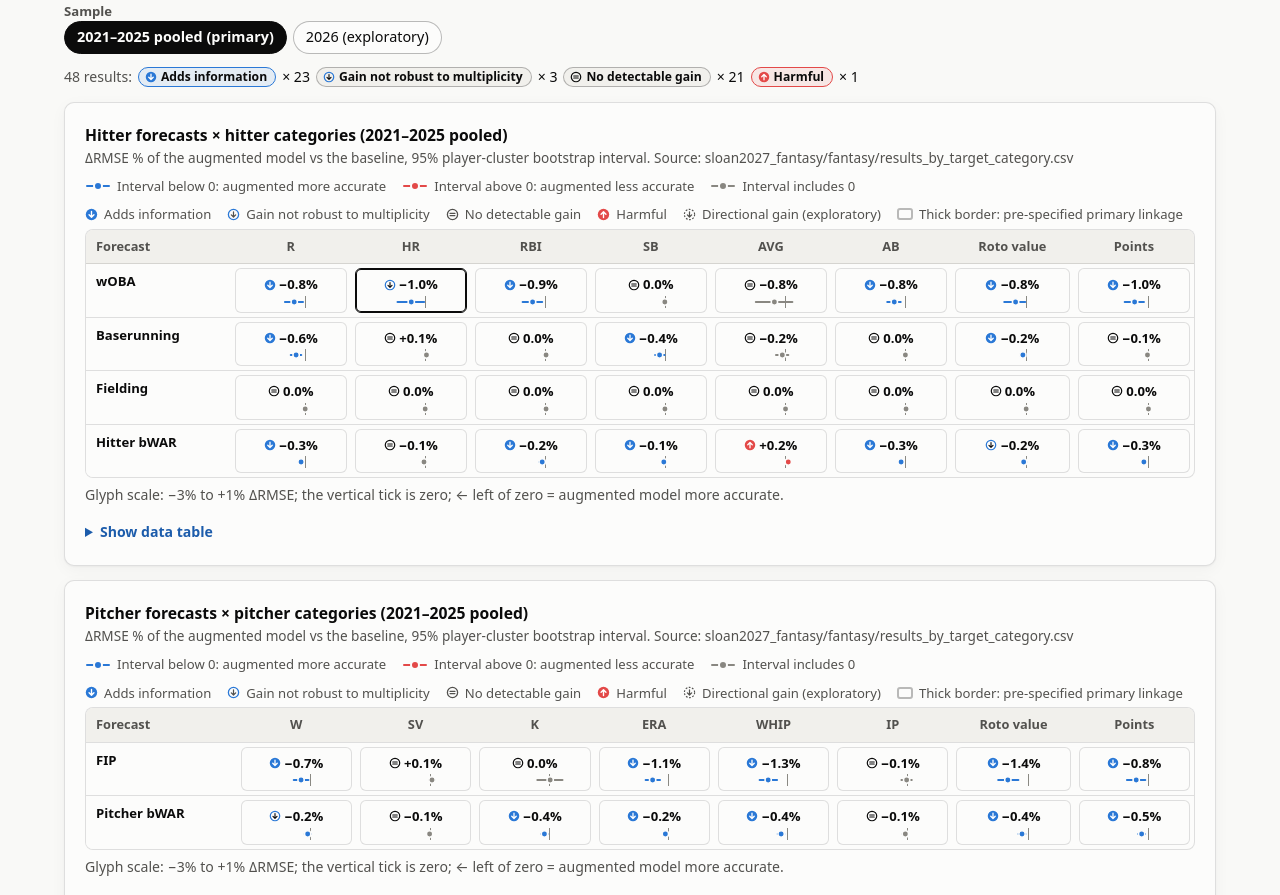
Test: Fantasy Linkage Explorer › the overview matrix lists every result, including harmful ones, and selecting a cell opens it
(page scrolled)
Click the button "+0.2%": x=771, y=451 715,428 -> 827,473
(page scrolled)
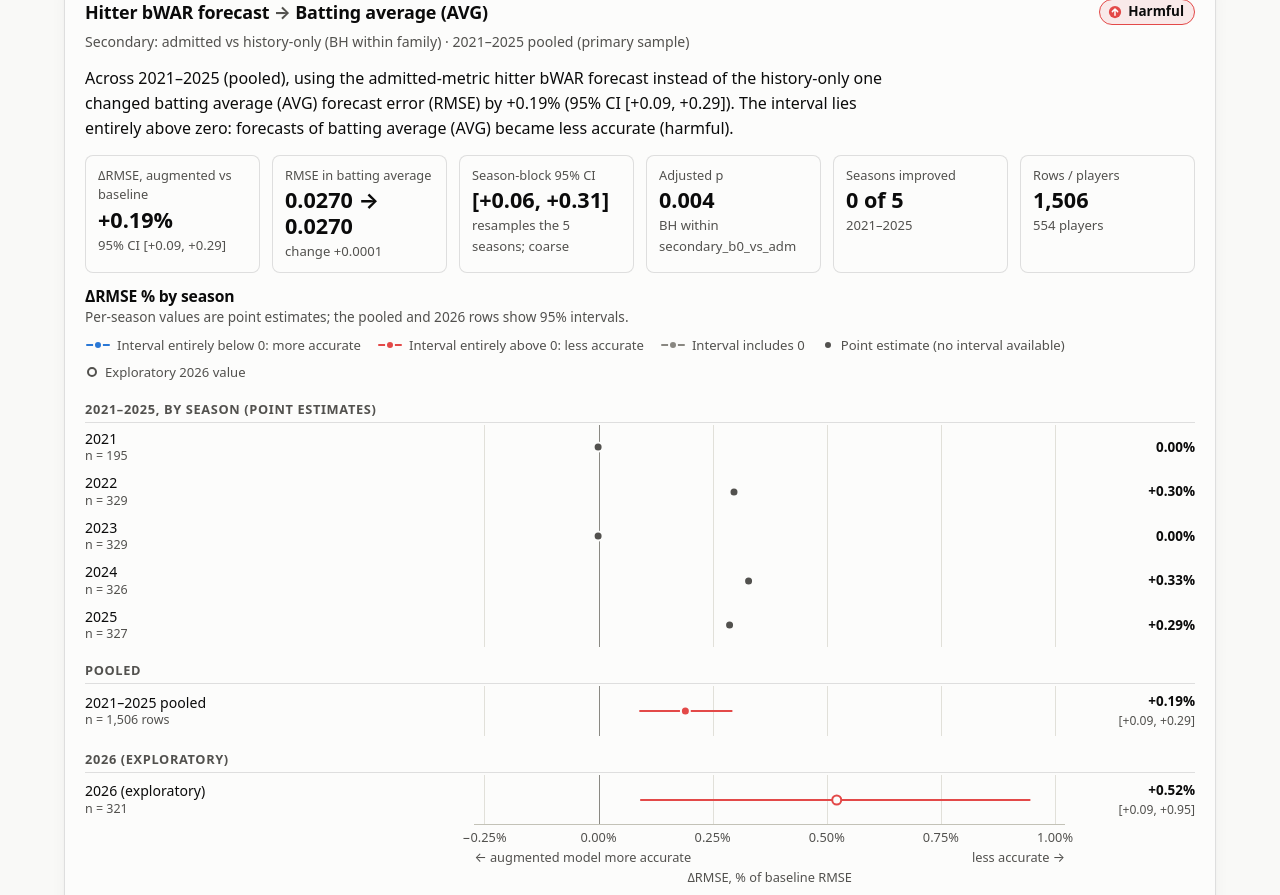
Check: the element showing "Harmful" has attribute data-verdict="harmful", box 1099,0 -> 1195,25
